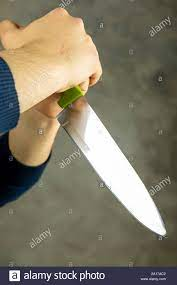weapon-unusual: (39, 71, 171, 242)
